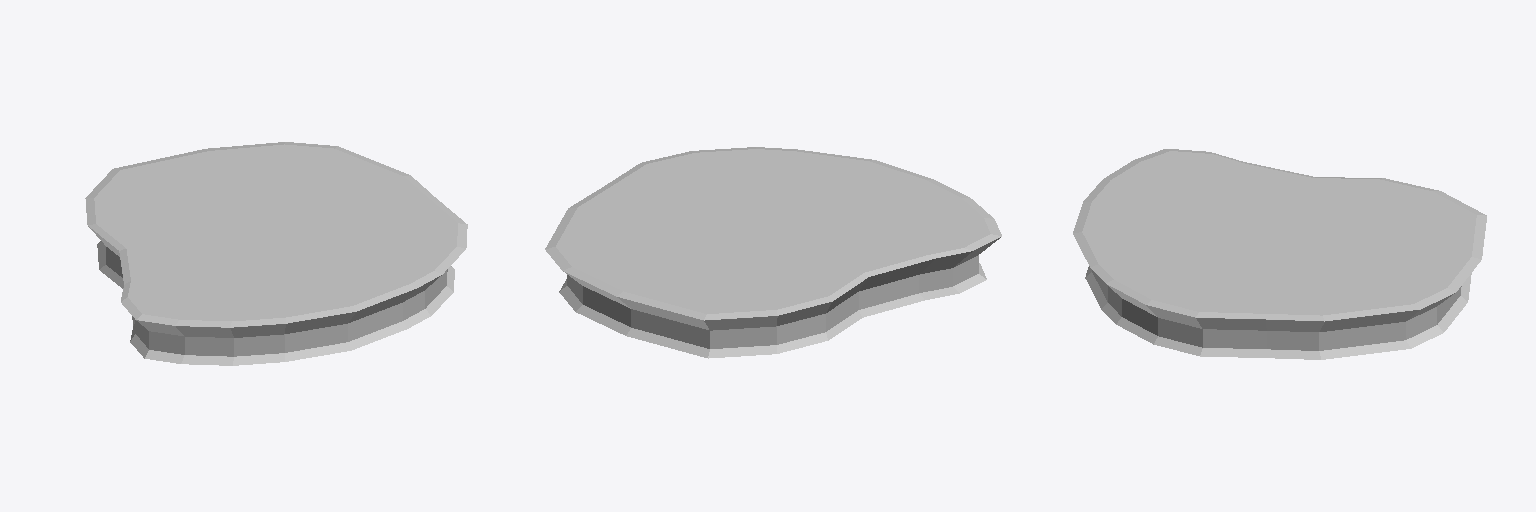
File: platform_07.obj
3 views of the same model, side by side, from view 1: azimuth 30°, elevation 25°; view 2: azimuth 150°, elevation 25°; view 3: azimuth 270°, elevation 25° (orthographic).
Visible parts, largest first — view 1: platform_07_Cube.013; view 2: platform_07_Cube.013; view 3: platform_07_Cube.013.
Part boxes in pixels (x1,y1,x2,y2): platform_07_Cube.013: (85, 142, 467, 365); platform_07_Cube.013: (545, 147, 1001, 358); platform_07_Cube.013: (1073, 149, 1486, 359).
Bounding box in the file's own units: 20.89 × 2.58 × 21.16.